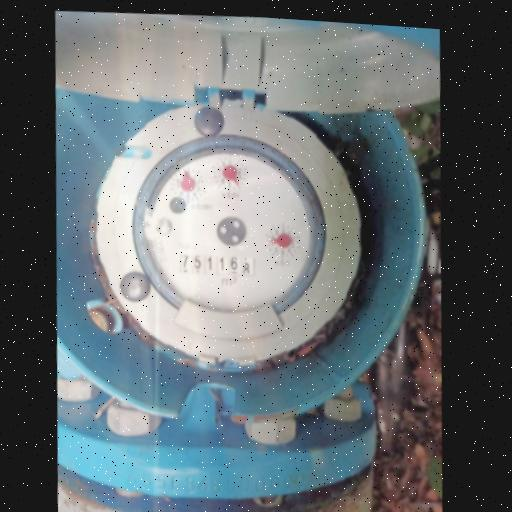1: (216, 255, 228, 273), (205, 256, 216, 274)
5: (192, 254, 205, 273)
6: (229, 257, 242, 275)
7: (180, 254, 193, 272)
8: (241, 257, 254, 275)
border_water_meter_number: (178, 250, 256, 278)
